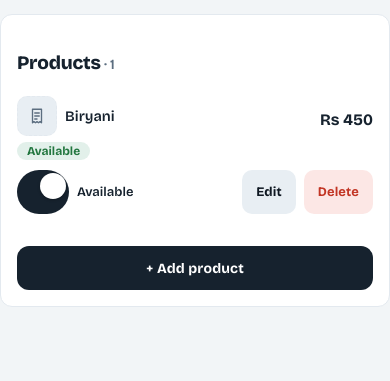
Scenario: OwnerProducts catalog UX (Phase 3F) › surfaces toggle failures instead of swallowing them
The image size is (390, 381).
Expected: the text "Biryani" is shown, [65,108,115,124]
Click the switch named "Available" at (43, 192), box [17,170,69,214]
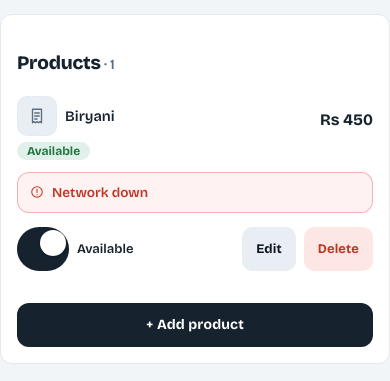
Expected: the text "Network down" is shown, [17,172,373,213]
